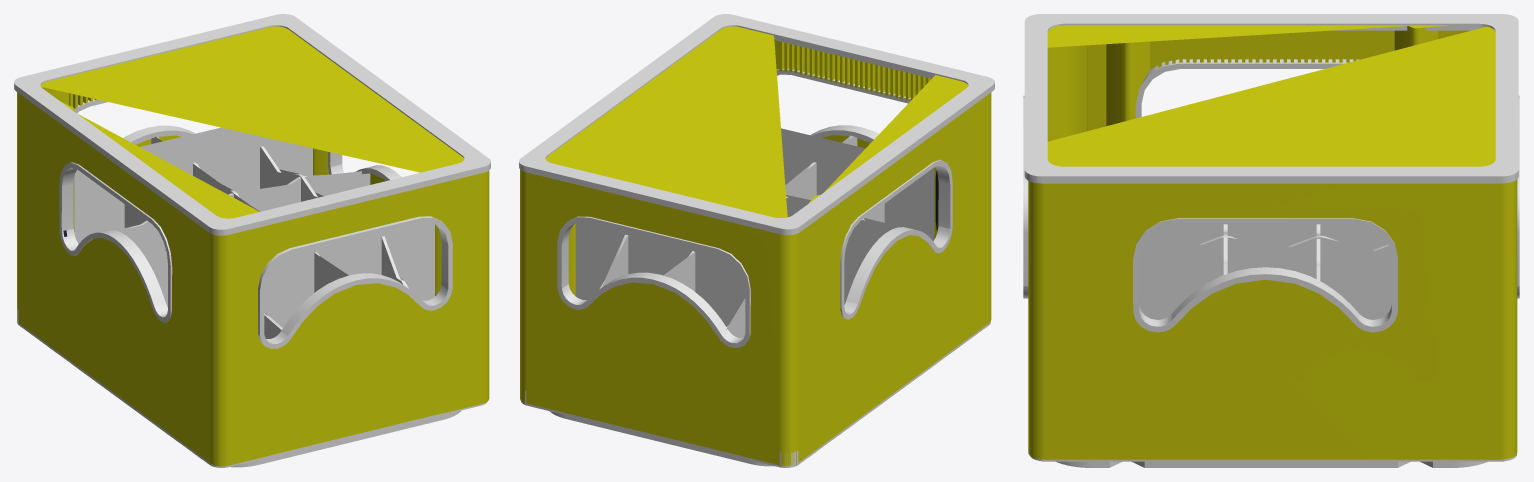
The picture shows the model from 3 angles, left to right: view 1: azimuth 30°, elevation 25°; view 2: azimuth 150°, elevation 25°; view 3: azimuth 270°, elevation 25°; orthographic projection. The views are drawn at different scales.
Parts seen in each view (by area): view 1: pasted__svgMesh16, svgMesh16, pasted__pasted__svgMesh3 (×2), svgMesh3, svgMesh17, pasted__svgMesh17 (×2), pasted__pasted__pasted__svgMesh3, pasted__svgMesh2 (×2), pasted__pasted__pasted__svgMesh2, svgMesh1, pasted__svgMesh4, pasted__pasted__svgMesh17; view 2: pasted__svgMesh16, svgMesh16, pasted__svgMesh17 (×2), pasted__pasted__svgMesh3 (×2), svgMesh3, svgMesh14, pasted__svgMesh2 (×2), pasted__svgMesh4, svgMesh17, svgMesh1, pasted__pasted__pasted__svgMesh2; view 3: pasted__svgMesh16, svgMesh16, pasted__pasted__pasted__svgMesh2, pasted__pasted__svgMesh17, pasted__svgMesh2, pasted__pasted__svgMesh10, svgMesh1, pasted__svgMesh17 (×2), pasted__svgMesh4, svgMesh17.
Boxes of the visible parts, bbox=[...] form: pasted__svgMesh16: bbox=[17, 26, 489, 466]; svgMesh16: bbox=[14, 14, 490, 235]; pasted__pasted__svgMesh3 (×2): bbox=[74, 127, 312, 307]; svgMesh3: bbox=[264, 222, 434, 327]; svgMesh17: bbox=[258, 216, 452, 348]; pasted__svgMesh17 (×2): bbox=[59, 98, 195, 322]; pasted__pasted__pasted__svgMesh3: bbox=[116, 171, 370, 255]; pasted__svgMesh2 (×2): bbox=[124, 136, 348, 338]; pasted__pasted__pasted__svgMesh2: bbox=[260, 146, 408, 288]; svgMesh1: bbox=[50, 348, 461, 467]; pasted__svgMesh4: bbox=[17, 309, 487, 467]; pasted__pasted__svgMesh17: bbox=[328, 152, 401, 180]; pasted__svgMesh16: bbox=[520, 26, 991, 465]; svgMesh16: bbox=[519, 14, 994, 235]; pasted__svgMesh17 (×2): bbox=[557, 159, 952, 347]; pasted__pasted__svgMesh3 (×2): bbox=[575, 195, 901, 326]; svgMesh3: bbox=[781, 128, 934, 241]; svgMesh14: bbox=[779, 41, 931, 100]; pasted__svgMesh2 (×2): bbox=[663, 135, 884, 338]; pasted__svgMesh4: bbox=[521, 322, 990, 467]; svgMesh17: bbox=[776, 68, 910, 142]; svgMesh1: bbox=[550, 350, 954, 466]; pasted__pasted__pasted__svgMesh2: bbox=[599, 234, 628, 289]; pasted__svgMesh16: bbox=[1028, 25, 1517, 459]; svgMesh16: bbox=[1024, 14, 1518, 183]; pasted__pasted__pasted__svgMesh2: bbox=[1139, 235, 1391, 319]; pasted__pasted__svgMesh17: bbox=[1133, 218, 1397, 332]; pasted__svgMesh2: bbox=[1148, 224, 1387, 249]; pasted__pasted__svgMesh10: bbox=[1158, 30, 1377, 67]; svgMesh1: bbox=[1056, 461, 1487, 467]; pasted__svgMesh17 (×2): bbox=[1135, 59, 1519, 298]; pasted__svgMesh4: bbox=[1029, 454, 1516, 461]; svgMesh17: bbox=[1023, 95, 1028, 298].
Size of the model in its own units: 9.91 by 8.44 by 12.78.
